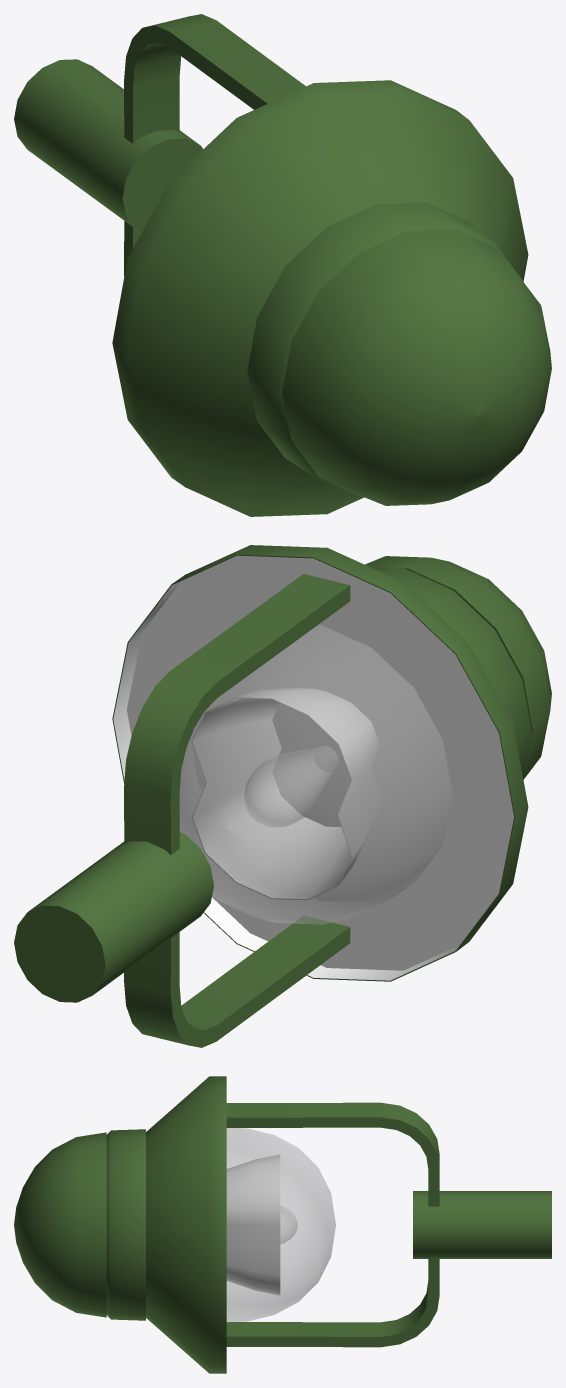
3 views of the same model, one above another, from view 1: azimuth 30°, elevation 25°; view 2: azimuth 150°, elevation 25°; view 3: azimuth 270°, elevation 25° (orthographic). The views are drawn at different scales.
Parts seen in each view (by area): view 1: Schirm_DL_302_BezierCurve.002, Cylinder.001_Cylinder.002, Schirmbuegel.001_BezierCurve.001; view 2: Schirm_DL_302_BezierCurve.002, Glas.001_BezierCurve.007, Reflektor.001_BezierCurve.003, Schirmbuegel.001_BezierCurve.001, Cylinder.001_Cylinder.002; view 3: Schirm_DL_302_BezierCurve.002, Glas.001_BezierCurve.007, Schirmbuegel.001_BezierCurve.001, Cylinder.001_Cylinder.002, Reflektor.001_BezierCurve.003.
Part boxes in pixels (<box>): Schirm_DL_302_BezierCurve.002: <box>112,80,551,516</box>; Cylinder.001_Cylinder.002: <box>14,59,203,231</box>; Schirmbuegel.001_BezierCurve.001: <box>124,14,305,276</box>; Schirm_DL_302_BezierCurve.002: <box>112,545,551,981</box>; Glas.001_BezierCurve.007: <box>179,625,452,924</box>; Reflektor.001_BezierCurve.003: <box>192,687,380,900</box>; Schirmbuegel.001_BezierCurve.001: <box>124,574,350,1047</box>; Cylinder.001_Cylinder.002: <box>14,832,213,1002</box>; Schirm_DL_302_BezierCurve.002: <box>14,1076,226,1373</box>; Glas.001_BezierCurve.007: <box>226,1128,335,1322</box>; Schirmbuegel.001_BezierCurve.001: <box>226,1102,439,1347</box>; Cylinder.001_Cylinder.002: <box>413,1191,551,1258</box>; Reflektor.001_BezierCurve.003: <box>226,1154,280,1295</box>.
Size of the model in its own units: 0.4395 by 0.4395 by 0.7939.
